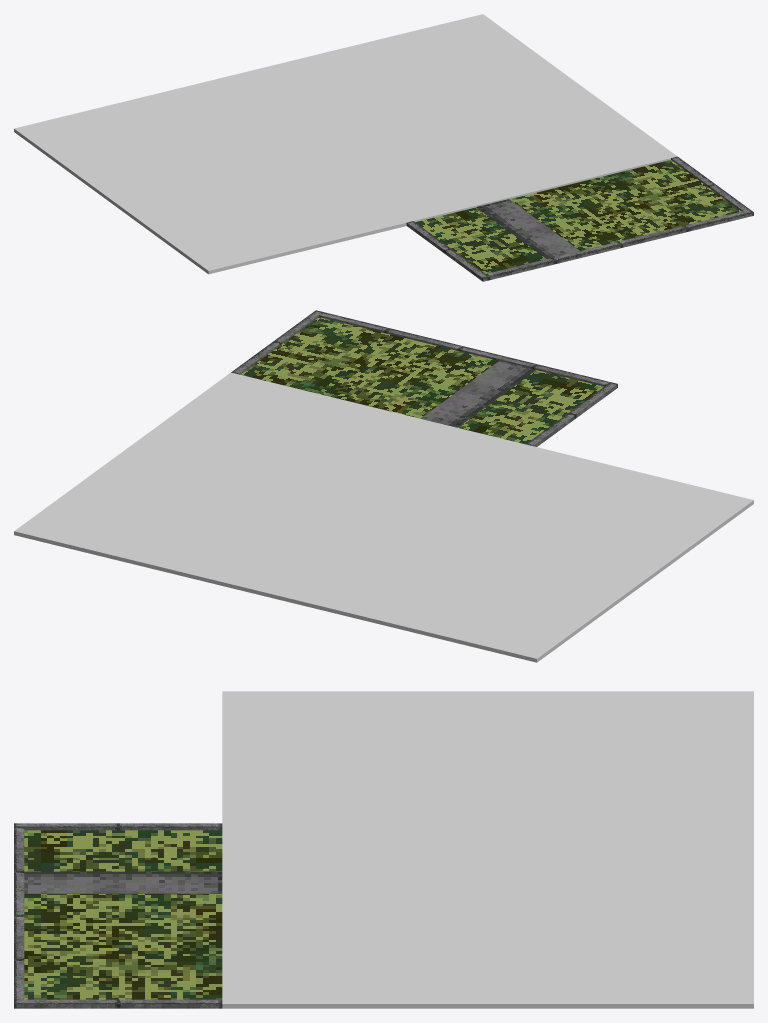
Rendered from DTBuildingBase.glb.
The picture shows the model from 3 angles, top to bottom: view 1: azimuth 30°, elevation 25°; view 2: azimuth 150°, elevation 25°; view 3: azimuth 270°, elevation 25°; orthographic projection. The views are drawn at different scales.
Parts seen in each view (by area): view 1: BuildingBase2; view 2: BuildingBase2; view 3: BuildingBase2.
Boxes of the visible parts, <box> form: BuildingBase2: <box>14,14,753,281</box>; BuildingBase2: <box>14,310,753,662</box>; BuildingBase2: <box>14,691,753,1008</box>.
Bounding box in the file's own units: 14.2 × 0.1 × 14.2.
4 materials, 3 textured.
